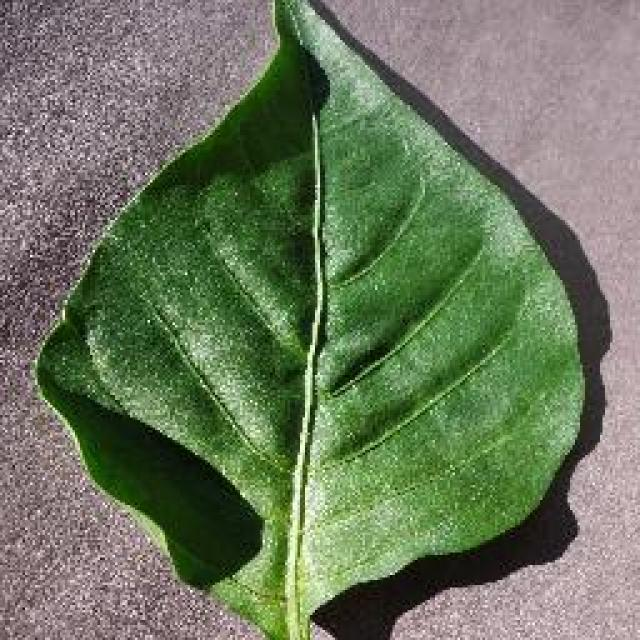Chilli_Healthy: (32, 0, 588, 638)
